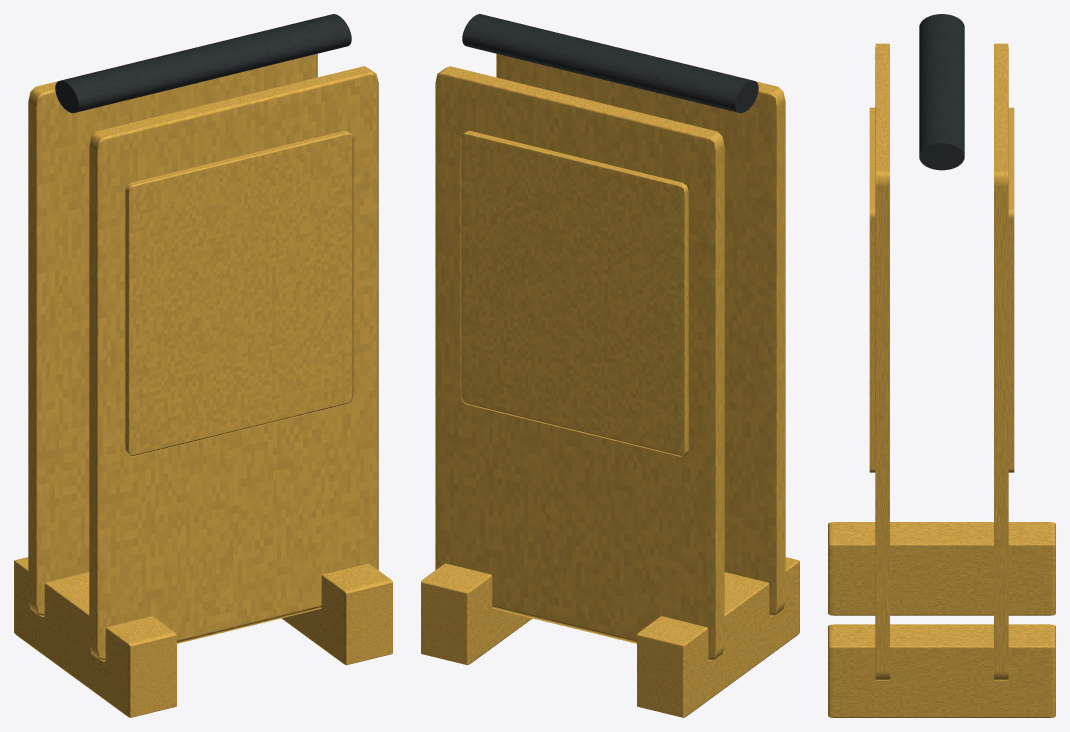
Rendered from wet-sign.glb.
3 views of the same model, side by side, from view 1: azimuth 30°, elevation 25°; view 2: azimuth 150°, elevation 25°; view 3: azimuth 270°, elevation 25° (orthographic). The views are drawn at different scales.
Visible parts, largest first — view 1: panel (×2), caution, feet (×2), hinge; view 2: panel (×2), caution, feet (×2), hinge; view 3: feet (×2), panel (×2), hinge, caution (×2).
Boxes of the visible parts, x1,y1,x2,y2 form: panel (×2): [28, 53, 378, 661]; caution: [125, 130, 353, 456]; feet (×2): [14, 557, 392, 717]; hinge: [55, 14, 351, 113]; panel (×2): [435, 53, 785, 661]; caution: [460, 130, 688, 456]; feet (×2): [421, 557, 799, 717]; hinge: [462, 14, 758, 113]; feet (×2): [828, 522, 1055, 717]; panel (×2): [875, 43, 1008, 680]; hinge: [919, 14, 964, 170]; caution (×2): [869, 107, 1014, 472].
Size of the model in its own units: 0.2914 by 0.5871 by 0.21.
2 materials, 2 textured.
